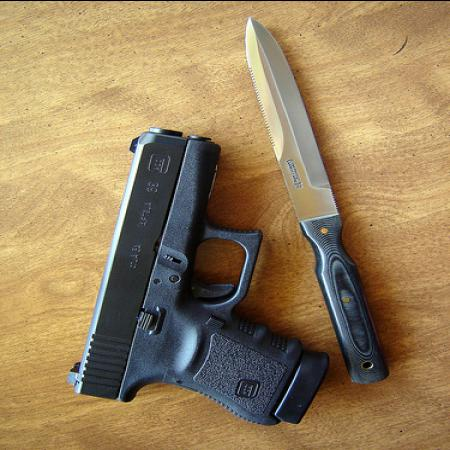Pistol: (61, 122, 329, 424)
